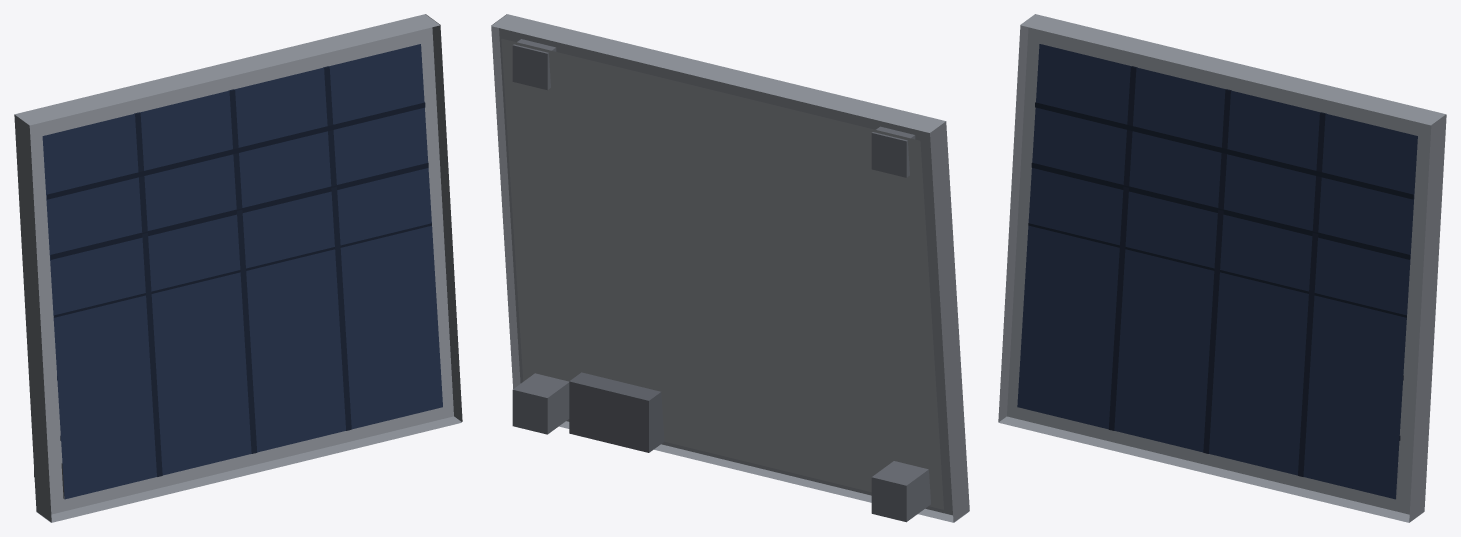
Rendered from array_flat_standard_clear_S.obj.
3 views of the same model, side by side, from view 1: azimuth 30°, elevation 25°; view 2: azimuth 150°, elevation 25°; view 3: azimuth 330°, elevation 25° (orthographic). The views are drawn at different scales.
Parts seen in each view (by area): view 1: array_flat_standard_clear_S; view 2: array_flat_standard_clear_S; view 3: array_flat_standard_clear_S.
Boxes of the visible parts, left/top/right/bottom form: array_flat_standard_clear_S: left=14, top=14, right=462, bottom=522; array_flat_standard_clear_S: left=491, top=14, right=969, bottom=522; array_flat_standard_clear_S: left=998, top=14, right=1446, bottom=522.
Size of the model in its own units: 0.881 by 0.781 by 0.142.
Materials: 1 (1 with a texture image).
